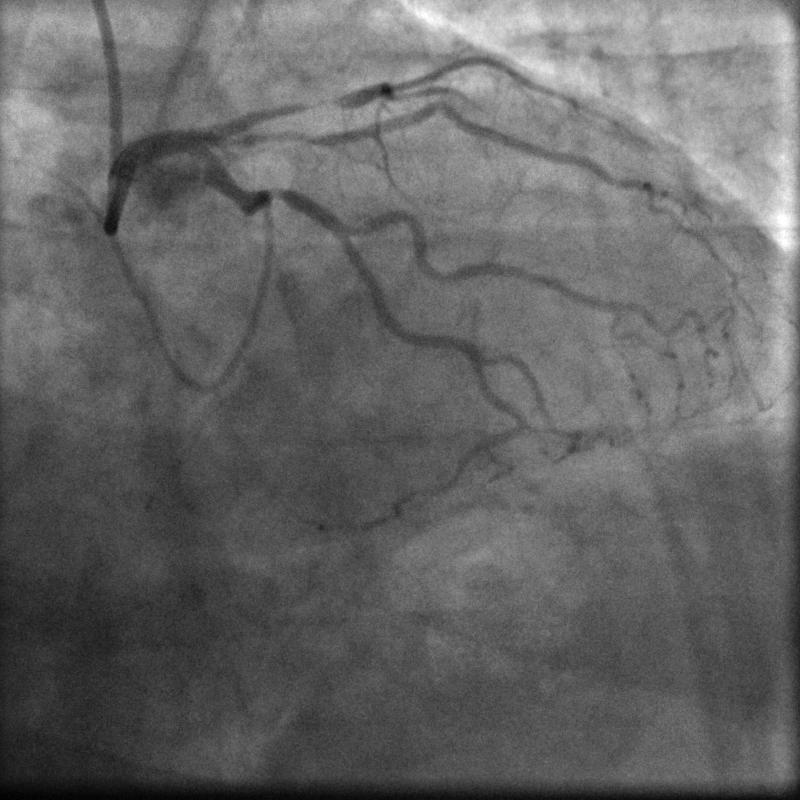Stenosis: (265, 183, 292, 209)
